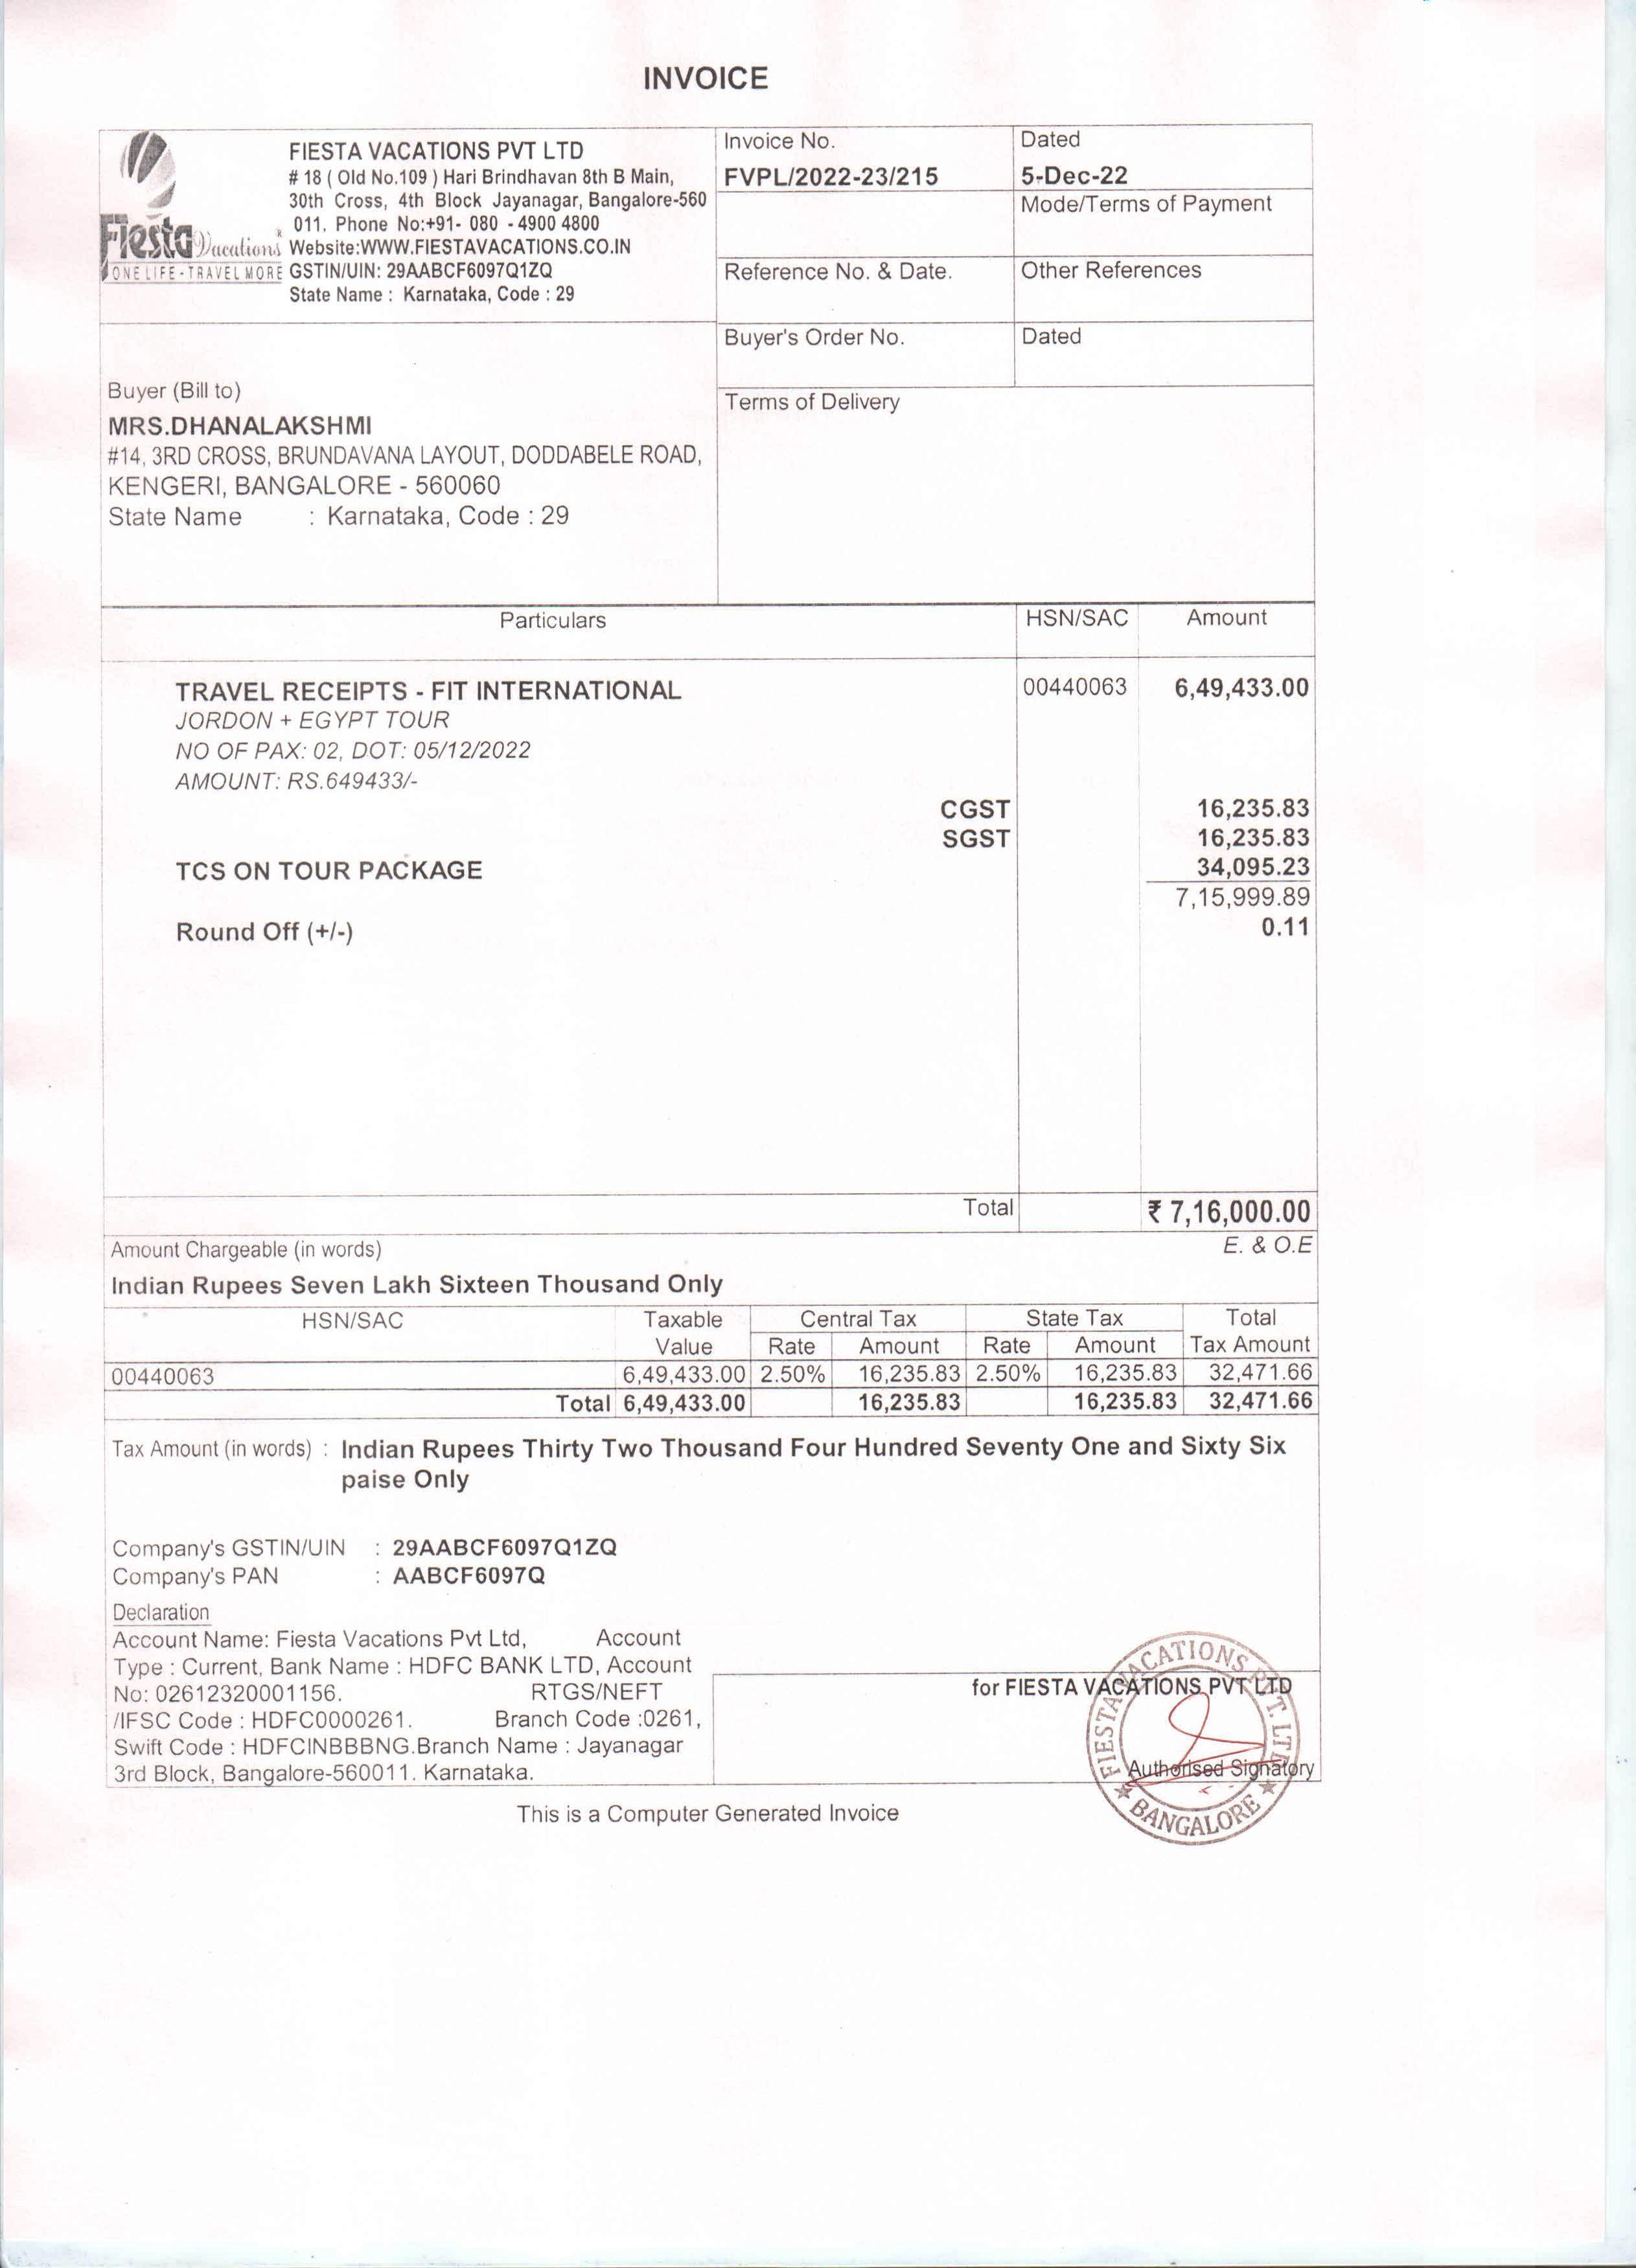InvoiceDate: (1018, 157, 1141, 195)
InvoiceNumber: (710, 153, 949, 201)
TotalAmount: (1118, 1180, 1330, 1229)
